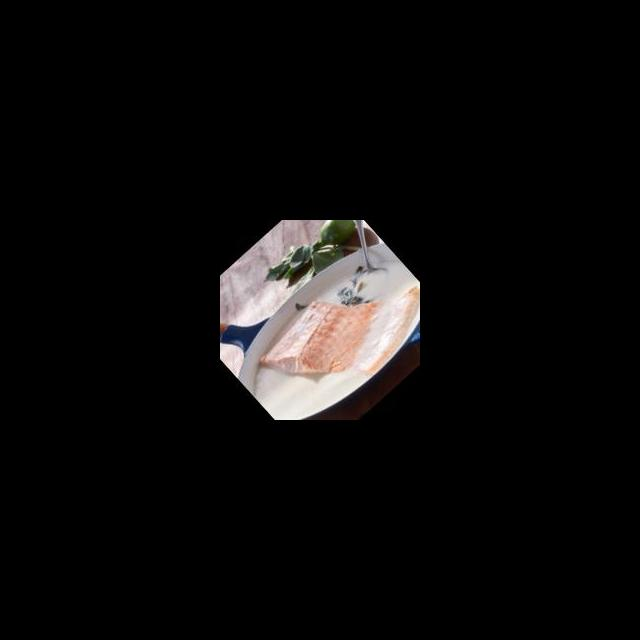ca hoi: (268, 304, 404, 374)
ca hoi sot pho mai kem: (244, 271, 420, 411)
pho mai: (256, 373, 358, 405), (331, 268, 416, 303)
